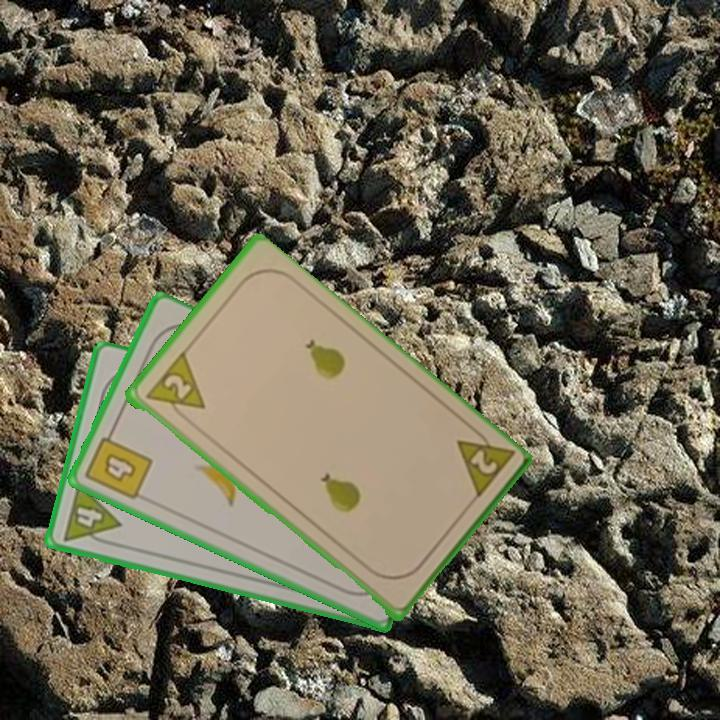2p: (452, 421, 516, 504), (141, 350, 208, 426)
4b: (81, 424, 155, 503)
4p: (58, 479, 124, 550)
